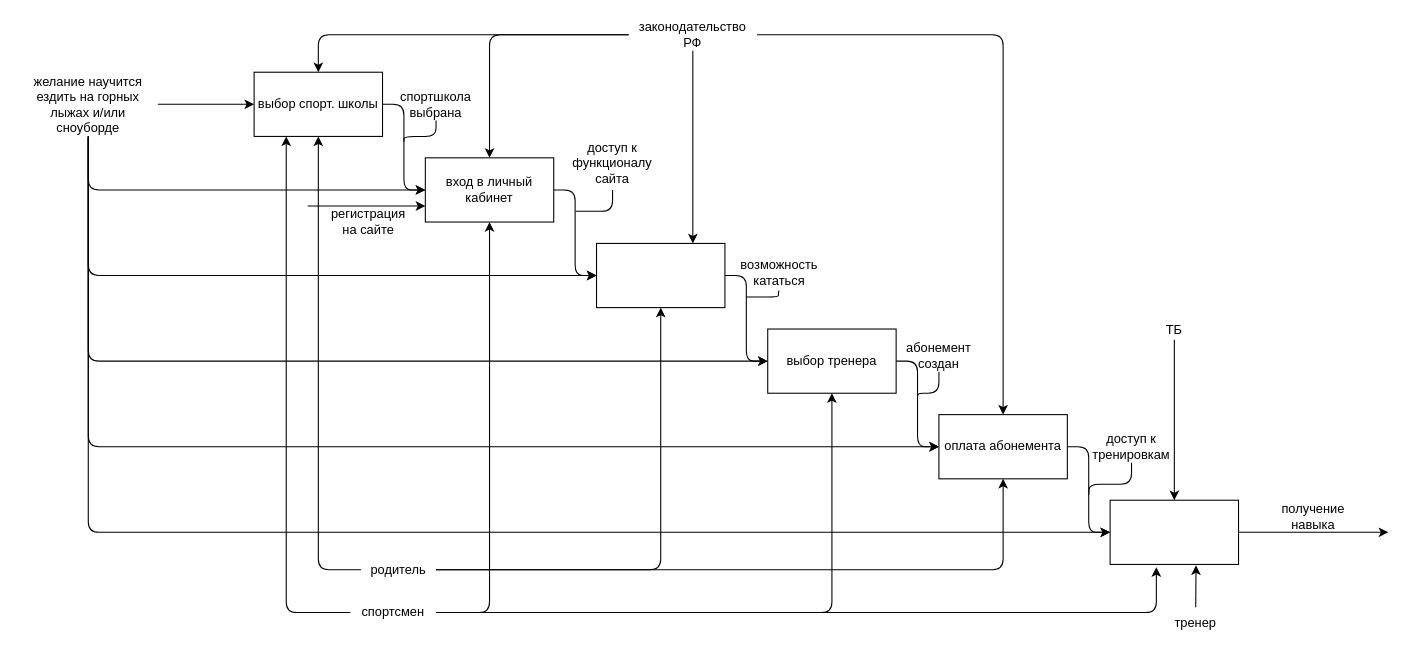
Some shapes in this 1416 by 657 pixel diagram are drawn without their labels. Each missing label, with the centre of its shape:
покупка необходимого инвентаря: point (660, 275)
хождение на тренировки: point (1174, 531)
